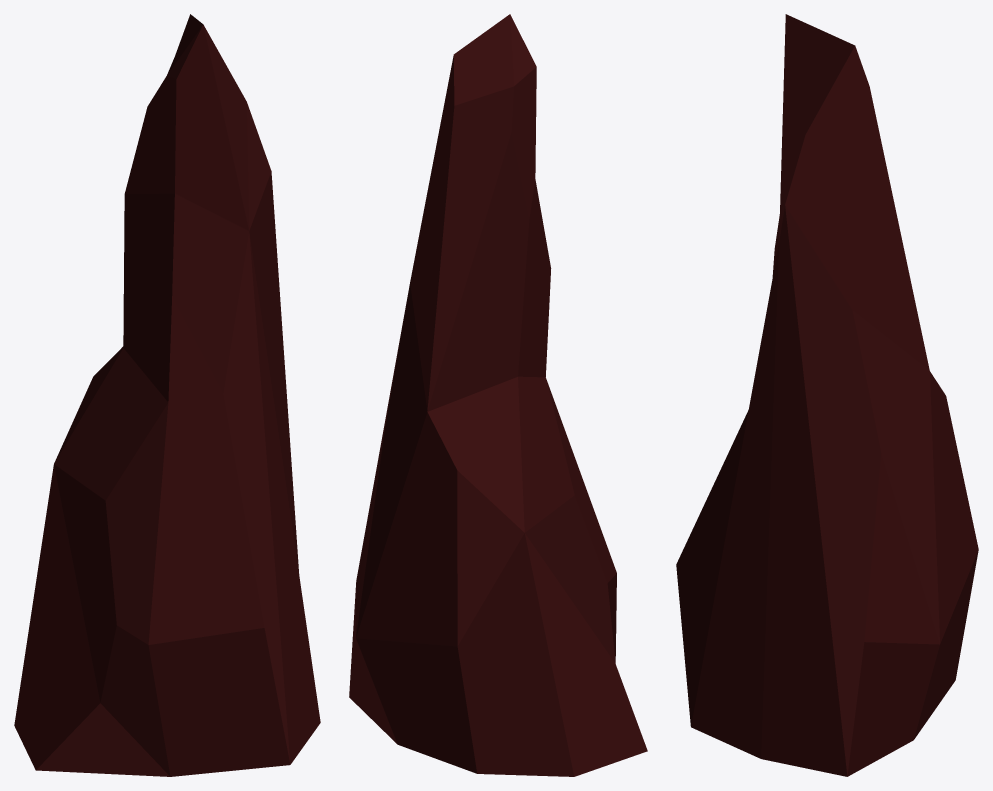
The model's file is PointyRock_02.fbx.
3 views of the same model, side by side, from view 1: azimuth 30°, elevation 25°; view 2: azimuth 150°, elevation 25°; view 3: azimuth 270°, elevation 25° (orthographic). The views are drawn at different scales.
Visible parts, largest first — view 1: pointyrock_02; view 2: pointyrock_02; view 3: pointyrock_02.
Boxes of the visible parts, <box> form: pointyrock_02: <box>14,14,320,776</box>; pointyrock_02: <box>349,14,647,776</box>; pointyrock_02: <box>676,14,978,776</box>.
Size of the model in its own units: 376 by 893 by 349.
